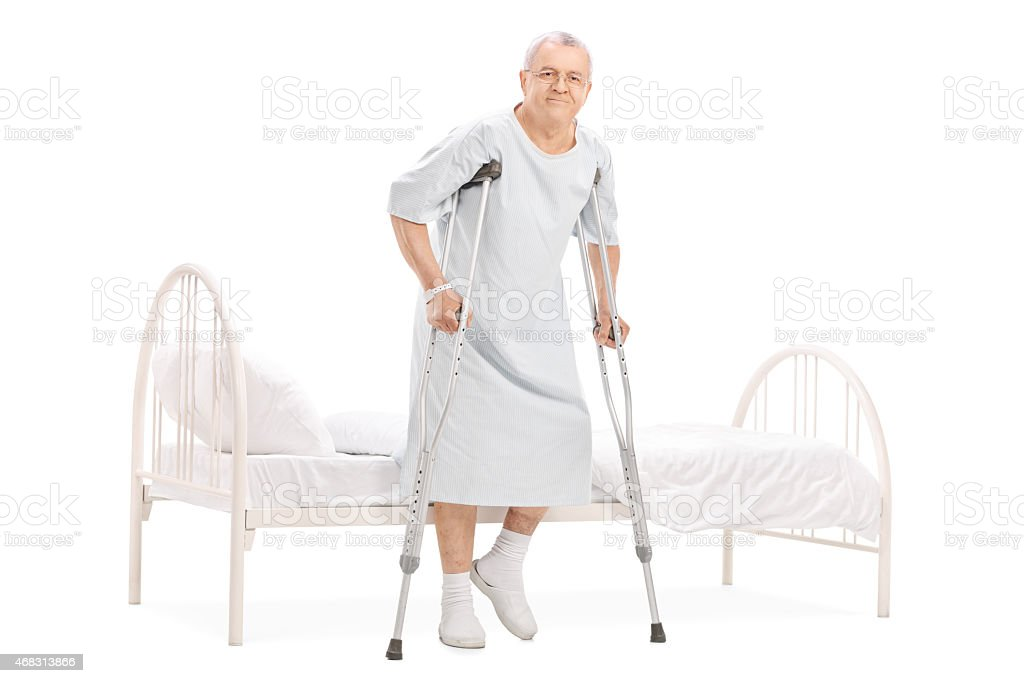crutches: (385, 32, 668, 658)
